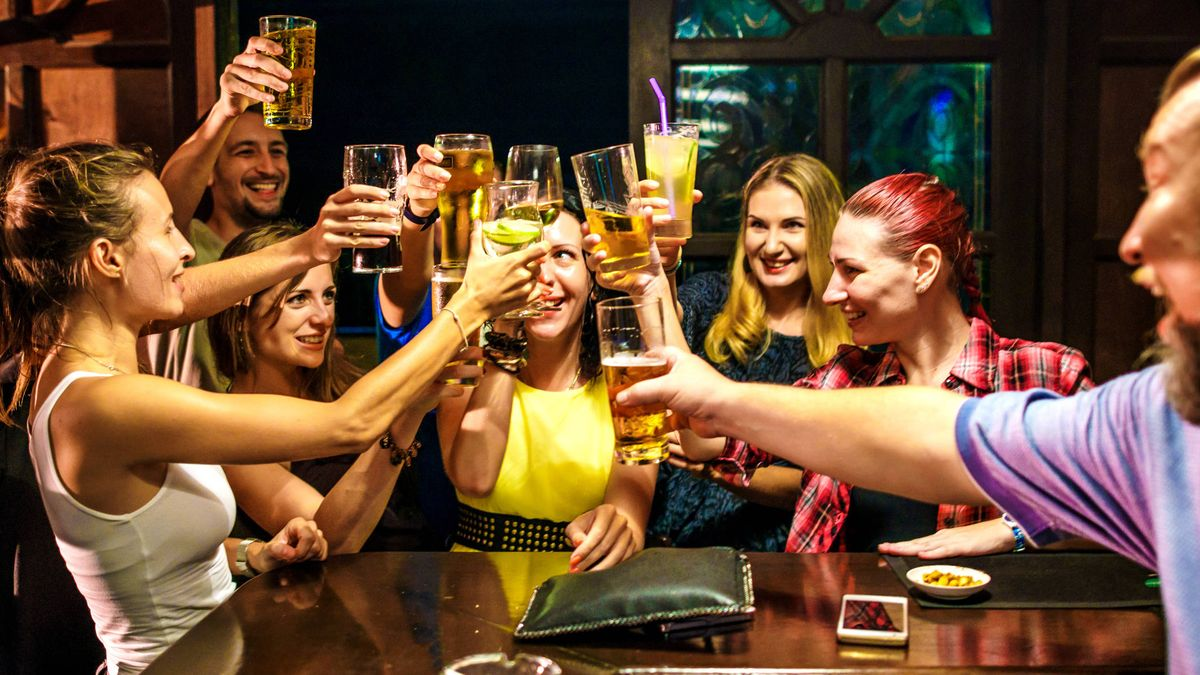beer glass: (597, 296, 670, 463), (572, 144, 649, 275), (435, 134, 493, 267), (259, 15, 315, 128), (644, 123, 698, 238), (343, 144, 406, 216), (506, 144, 562, 225), (482, 180, 542, 254)
